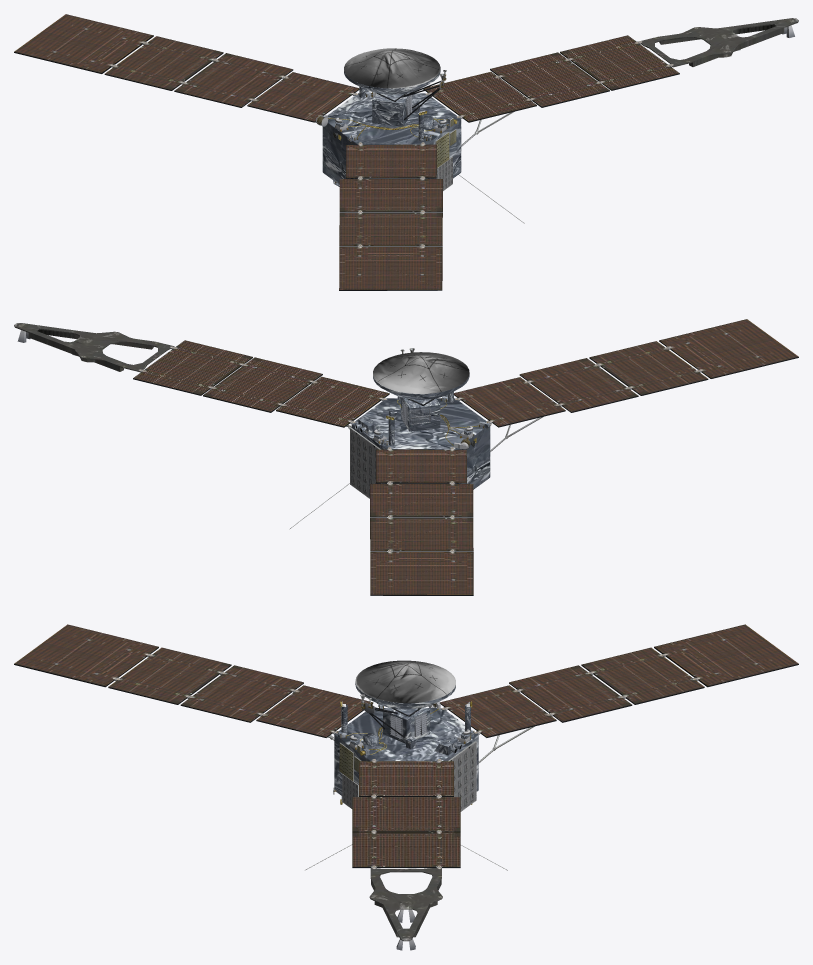
File: juno.glb
3 views of the same model, one above another, from view 1: azimuth 30°, elevation 25°; view 2: azimuth 150°, elevation 25°; view 3: azimuth 270°, elevation 25° (orthographic). The views are drawn at different scales.
Visible parts, largest first — view 1: shiny_panels_Geometry-Body.021, dish_bottom_Geometry-Mesh, dish_top_Geometry-Mesh.002, solar_panels_Geometry-Body.006, black_krinkle_Geometry-Body.007, tex_01_Geometry-Body.003; view 2: shiny_panels_Geometry-Body.021, dish_bottom_Geometry-Mesh, dish_top_Geometry-Mesh.002, tex_01_Geometry-Body.003, solar_panels_Geometry-Body.006, black_krinkle_Geometry-Body.007; view 3: shiny_panels_Geometry-Body.021, dish_bottom_Geometry-Mesh, tex_01_Geometry-Body.003, dish_top_Geometry-Mesh.002, solar_panels_Geometry-Body.006, black_krinkle_Geometry-Body.007.
Boxes of the visible parts, box(x1,y1,x2,y2) form: shiny_panels_Geometry-Body.021: box(14, 14, 679, 289); dish_bottom_Geometry-Mesh: box(322, 69, 461, 186); dish_top_Geometry-Mesh.002: box(344, 48, 440, 88); solar_panels_Geometry-Body.006: box(387, 18, 798, 290); black_krinkle_Geometry-Body.007: box(14, 35, 679, 290); tex_01_Geometry-Body.003: box(110, 25, 794, 247); shiny_panels_Geometry-Body.021: box(133, 319, 798, 594); dish_bottom_Geometry-Mesh: box(351, 374, 490, 489); dish_top_Geometry-Mesh.002: box(373, 352, 469, 393); tex_01_Geometry-Body.003: box(17, 330, 702, 552); solar_panels_Geometry-Body.006: box(14, 323, 382, 595); black_krinkle_Geometry-Body.007: box(133, 340, 798, 595); shiny_panels_Geometry-Body.021: box(14, 624, 798, 866); dish_bottom_Geometry-Mesh: box(334, 682, 478, 800); tex_01_Geometry-Body.003: box(112, 653, 699, 950); dish_top_Geometry-Mesh.002: box(355, 660, 455, 703); solar_panels_Geometry-Body.006: box(352, 868, 460, 941); black_krinkle_Geometry-Body.007: box(14, 647, 798, 867).
Bounding box in the file's own units: 19.04 × 4.59 × 20.
Materials: 9 (9 with a texture image).
